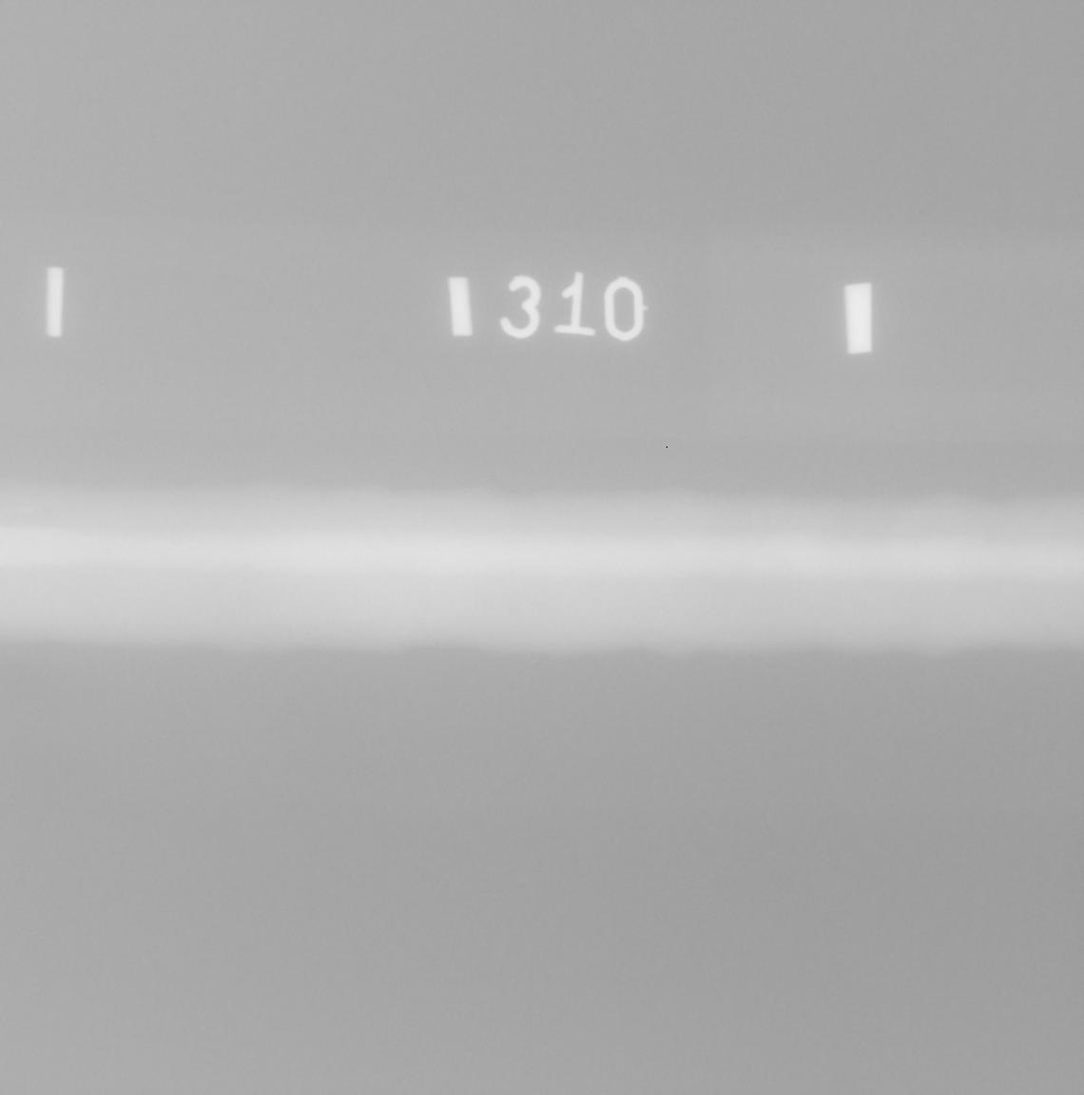Inclusion: (41, 509, 50, 514)
